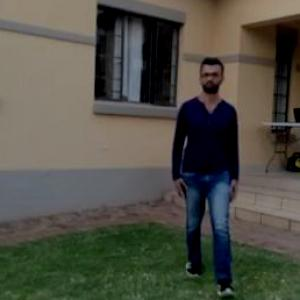follow: (166, 49, 241, 298)
